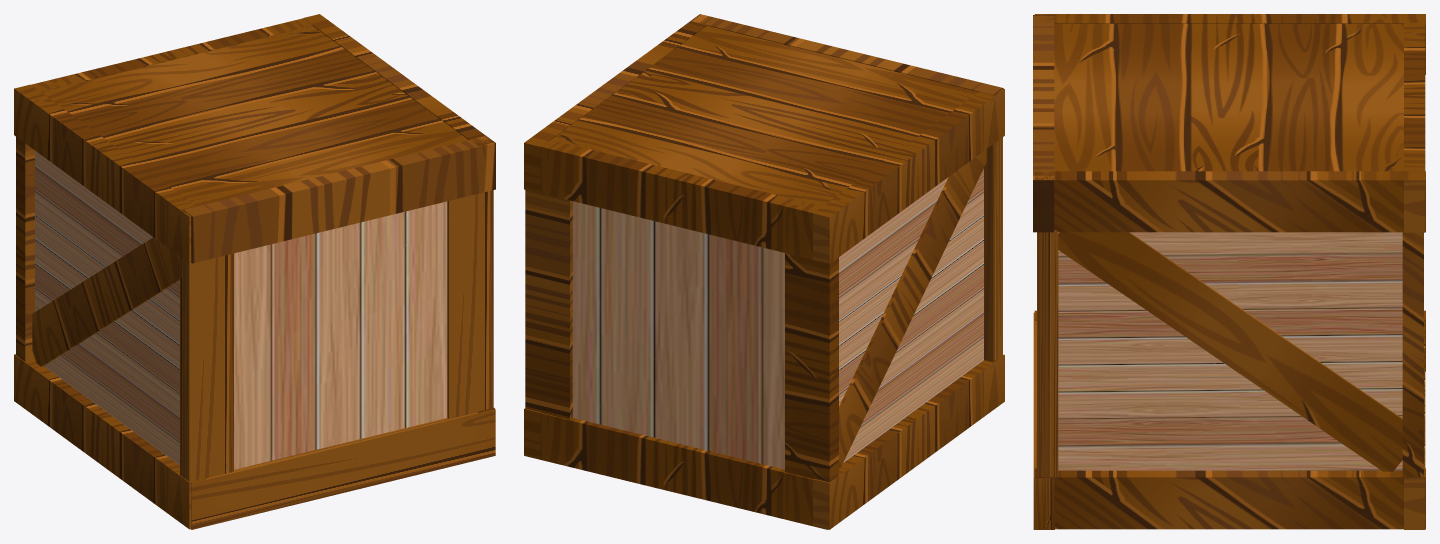
Rendered from Crate.fbx.
The picture shows the model from 3 angles, left to right: view 1: azimuth 30°, elevation 25°; view 2: azimuth 150°, elevation 25°; view 3: azimuth 270°, elevation 25°; orthographic projection. The views are drawn at different scales.
Visible parts, largest first — view 1: pCube1, pCube5, pCube2, pCube10, pCube7, pCube13, pCube8, pCube14, pCube11, pCube6, pCube4; view 2: pCube1, pCube4, pCube3, pCube11, pCube7, pCube8, pCube12, pCube14, pCube10, pCube6, pCube5, pCube9; view 3: pCube1, pCube6, pCube15, pCube9, pCube12, pCube13, pCube5, pCube4, pCube7, pCube2, pCube3.
Part boxes in pixels (x1=…): pCube1: x1=35, y1=26, x2=468, y2=469; pCube5: x1=183, y1=136, x2=495, y2=263; pCube2: x1=191, y1=409, x2=495, y2=529; pCube10: x1=180, y1=253, x2=233, y2=481; pCube7: x1=14, y1=84, x2=197, y2=263; pCube13: x1=447, y1=190, x2=493, y2=418; pCube8: x1=14, y1=354, x2=205, y2=529; pCube14: x1=32, y1=237, x2=179, y2=366; pCube11: x1=16, y1=137, x2=34, y2=361; pCube6: x1=303, y1=14, x2=494, y2=146; pCube4: x1=31, y1=18, x2=312, y2=91; pCube1: x1=551, y1=26, x2=983, y2=469; pCube4: x1=540, y1=140, x2=822, y2=259; pCube3: x1=524, y1=413, x2=827, y2=529; pCube11: x1=785, y1=253, x2=838, y2=482; pCube7: x1=813, y1=88, x2=1004, y2=263; pCube8: x1=813, y1=354, x2=1004, y2=529; pCube12: x1=525, y1=190, x2=572, y2=419; pCube14: x1=839, y1=149, x2=986, y2=468; pCube10: x1=984, y1=137, x2=1002, y2=362; pCube6: x1=524, y1=16, x2=707, y2=193; pCube5: x1=691, y1=14, x2=1003, y2=94; pCube9: x1=524, y1=408, x2=541, y2=459; pCube1: x1=1054, y1=23, x2=1403, y2=470; pCube6: x1=1034, y1=171, x2=1425, y2=232; pCube15: x1=1058, y1=232, x2=1402, y2=471; pCube9: x1=1034, y1=468, x2=1425, y2=529; pCube12: x1=1402, y1=232, x2=1423, y2=477; pCube13: x1=1037, y1=232, x2=1058, y2=477; pCube5: x1=1033, y1=15, x2=1054, y2=232; pCube4: x1=1404, y1=23, x2=1425, y2=232; pCube7: x1=1034, y1=14, x2=1425, y2=74; pCube2: x1=1033, y1=312, x2=1054, y2=529; pCube3: x1=1404, y1=320, x2=1425, y2=529.
Size of the model in its own units: 2.11 by 2.08 by 2.1.
2 materials, 2 textured.
